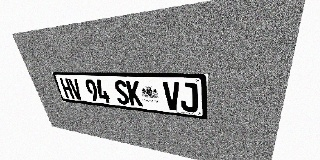4: (94, 79, 111, 103)
9: (84, 79, 100, 102)
H: (59, 78, 75, 99)
J: (179, 82, 198, 113)
K: (125, 80, 143, 106)
S: (113, 80, 130, 105)
V: (163, 82, 181, 111), (68, 78, 83, 100)
